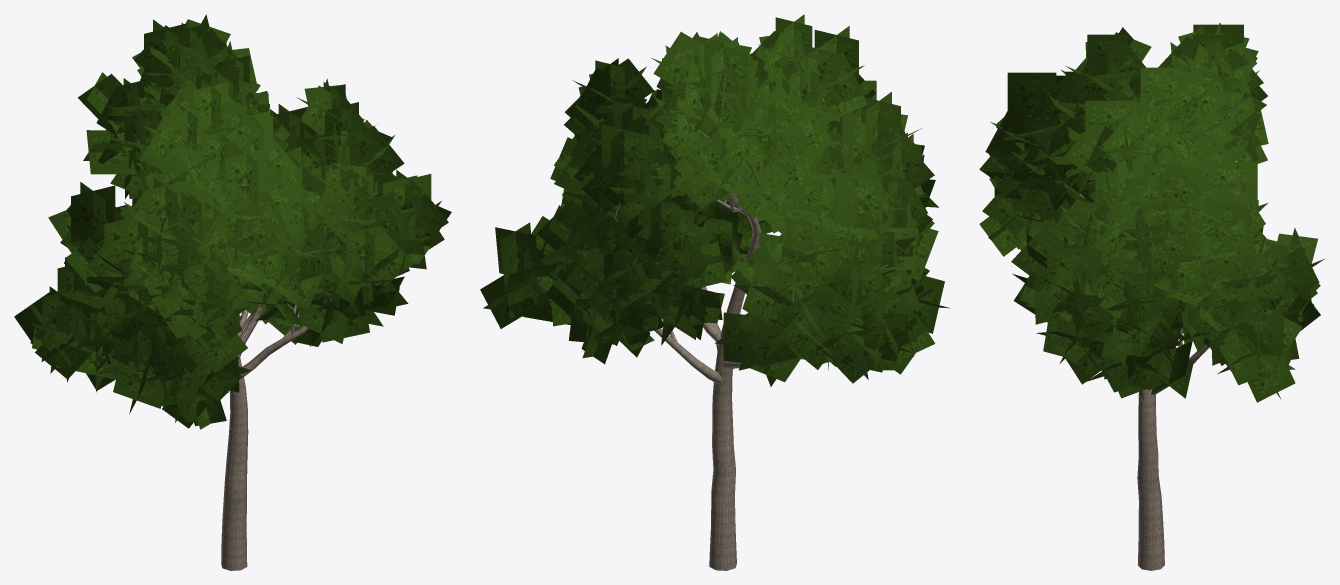
The model's file is broadleaf.glb.
3 renders of one model, left to right at view 1: azimuth 30°, elevation 25°; view 2: azimuth 150°, elevation 25°; view 3: azimuth 270°, elevation 25°, orthographic. The views are drawn at different scales.
Parts seen in each view (by area): view 1: eztree-broadleaf; view 2: eztree-broadleaf; view 3: eztree-broadleaf.
Boxes of the visible parts, <box> form: eztree-broadleaf: <box>14,14,451,570</box>; eztree-broadleaf: <box>480,14,949,570</box>; eztree-broadleaf: <box>979,23,1324,570</box>.
Bounding box in the file's own units: 10.47 × 14 × 8.33.
2 materials, 2 textured.
